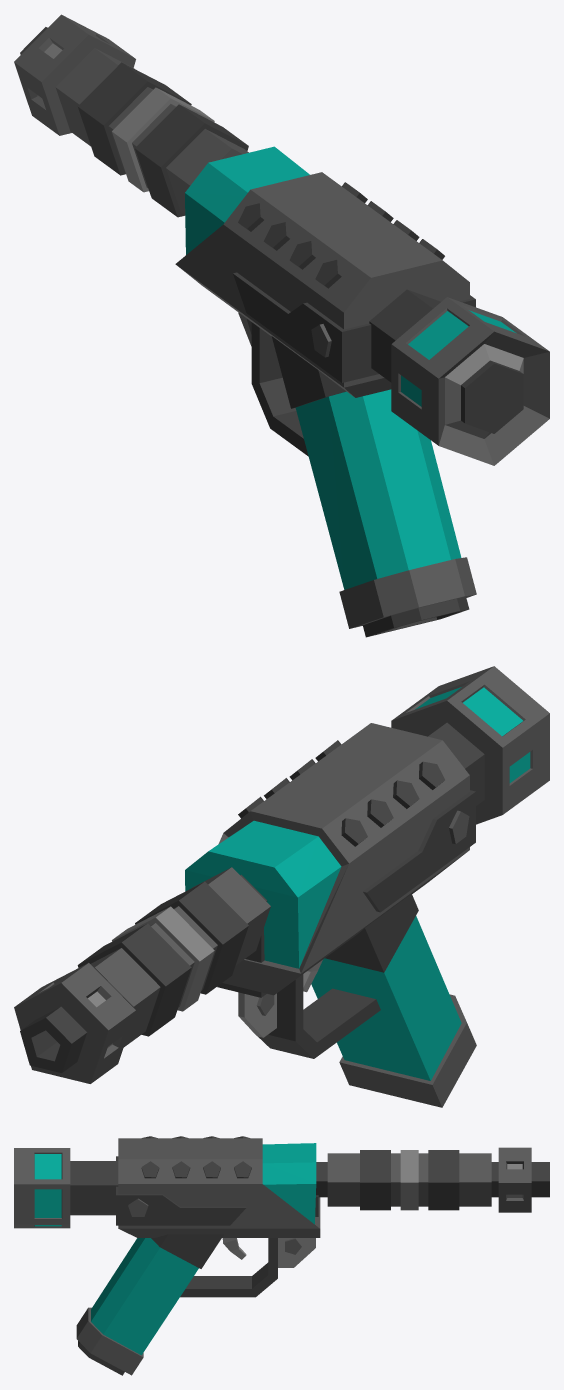
File: pistol.glb
3 views of the same model, one above another, from view 1: azimuth 30°, elevation 25°; view 2: azimuth 150°, elevation 25°; view 3: azimuth 270°, elevation 25° (orthographic). The views are drawn at different scales.
Visible parts, largest first — view 1: pistol_5, pistol_charger_5; view 2: pistol_5; view 3: pistol_5.
Boxes of the visible parts, left/top/right/bottom form: pistol_5: left=14, top=14, right=549, bottom=628; pistol_charger_5: left=362, top=597, right=469, bottom=637; pistol_5: left=14, top=666, right=549, bottom=1107; pistol_5: left=14, top=1136, right=549, bottom=1375.
Size of the model in its own units: 0.3196 by 0.7856 by 1.76.
Materials: 1 (1 with a texture image).
